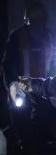gloves: (0, 65, 12, 92), (0, 1, 2, 1)
hard-hat: (0, 7, 18, 50)
ppe-suit: (0, 0, 2, 1)
vest: (0, 24, 27, 79)
